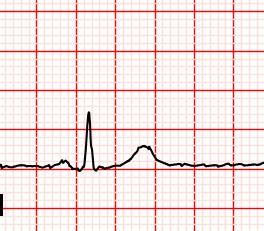LVH: (115, 143, 166, 169)
